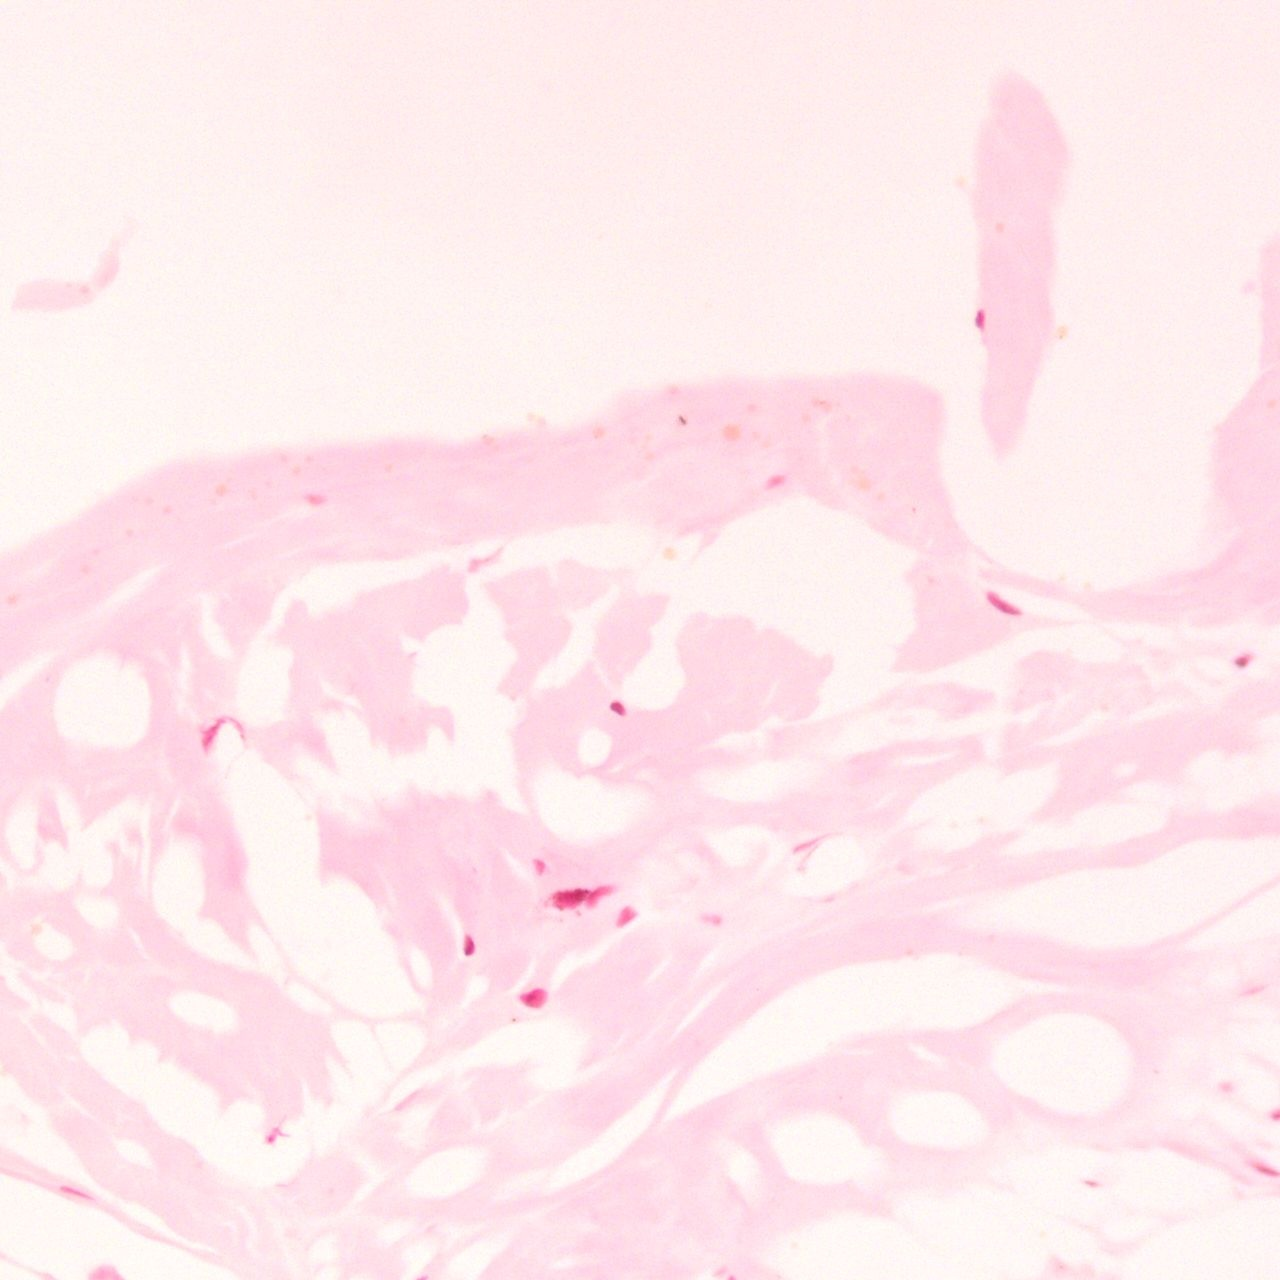dust: (299, 493, 325, 505), (676, 413, 688, 427)
nucleus-AC: (544, 880, 617, 914), (196, 710, 246, 748), (980, 588, 1022, 622), (610, 903, 639, 932), (1245, 1157, 1280, 1177), (756, 472, 788, 493), (57, 1184, 97, 1200), (518, 987, 549, 1008), (263, 1123, 284, 1148), (1230, 651, 1255, 670), (610, 699, 627, 716), (463, 934, 475, 956), (533, 858, 546, 874), (974, 308, 985, 328), (1268, 1107, 1279, 1119)
